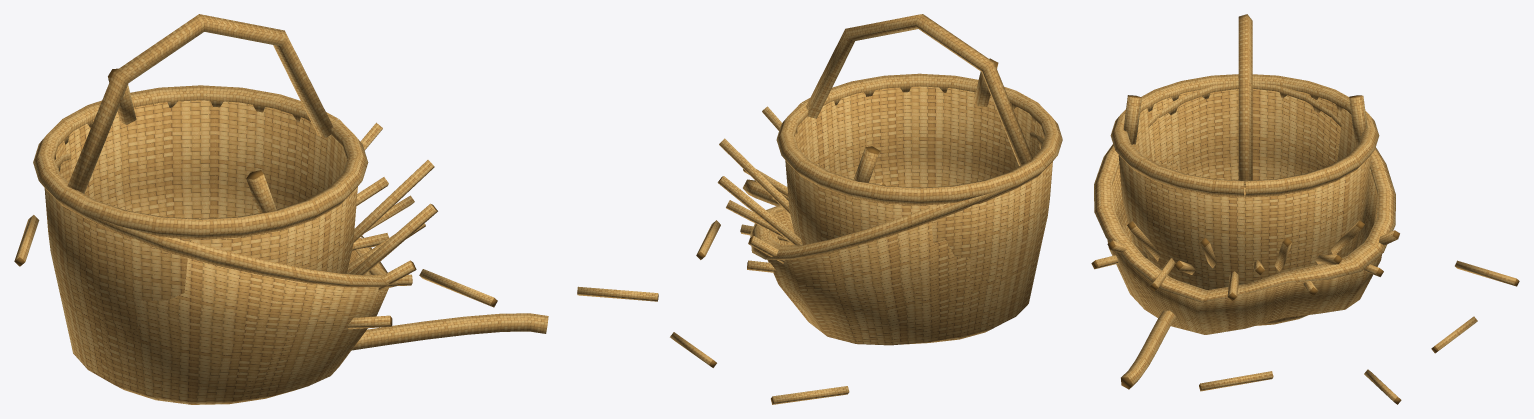
The model's file is basket.glb.
3 views of the same model, side by side, from view 1: azimuth 30°, elevation 25°; view 2: azimuth 150°, elevation 25°; view 3: azimuth 270°, elevation 25° (orthographic). The views are drawn at different scales.
Parts seen in each view (by area): view 1: intact.body, broken.body; view 2: intact.body, broken.body; view 3: broken.body, intact.body.
Boxes of the visible parts, left/top/right/bottom form: intact.body: left=33, top=14, right=368, bottom=374; broken.body: left=14, top=68, right=548, bottom=404; intact.body: left=776, top=14, right=1062, bottom=342; broken.body: left=577, top=58, right=1057, bottom=404; broken.body: left=1091, top=83, right=1519, bottom=404; intact.body: left=1110, top=14, right=1379, bottom=325.
Bounding box in the file's own units: 1.87 × 1.37 × 1.92.
2 materials, 2 textured.
